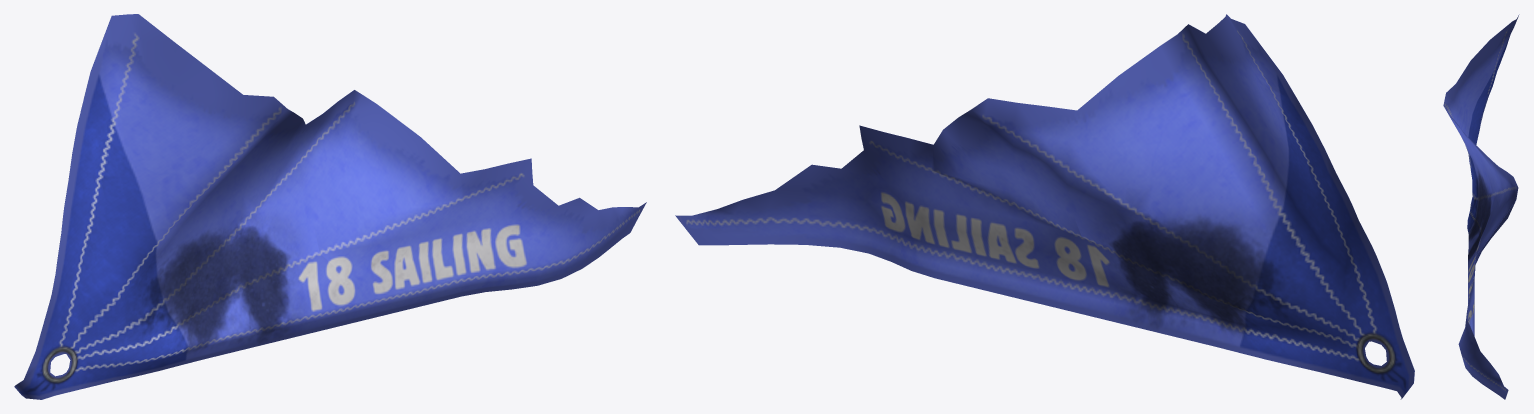
File: JIM_10.glb
3 views of the same model, side by side, from view 1: azimuth 30°, elevation 25°; view 2: azimuth 150°, elevation 25°; view 3: azimuth 270°, elevation 25° (orthographic). The views are drawn at different scales.
Parts seen in each view (by area): view 1: jim_8; view 2: jim_8; view 3: jim_8.
Boxes of the visible parts, bbox=[...] form: jim_8: bbox=[14, 14, 646, 399]; jim_8: bbox=[675, 14, 1414, 399]; jim_8: bbox=[1443, 14, 1519, 399].
Size of the model in its own units: 21.53 by 10.55 by 3.28.
1 material, 1 textured.
